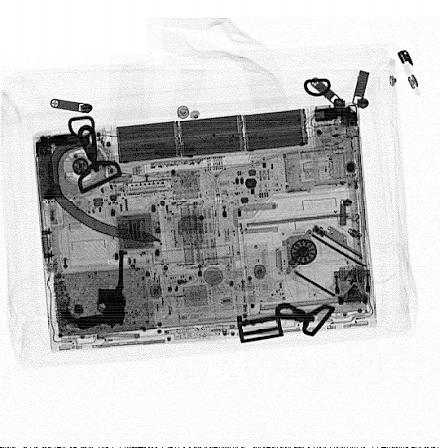Gun: (76, 250, 129, 332)
